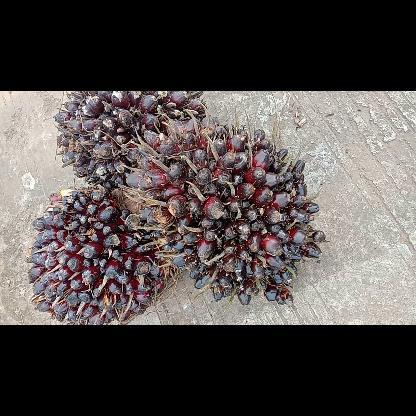TBS mentah: (121, 114, 328, 310), (28, 184, 180, 324), (50, 91, 212, 190)
